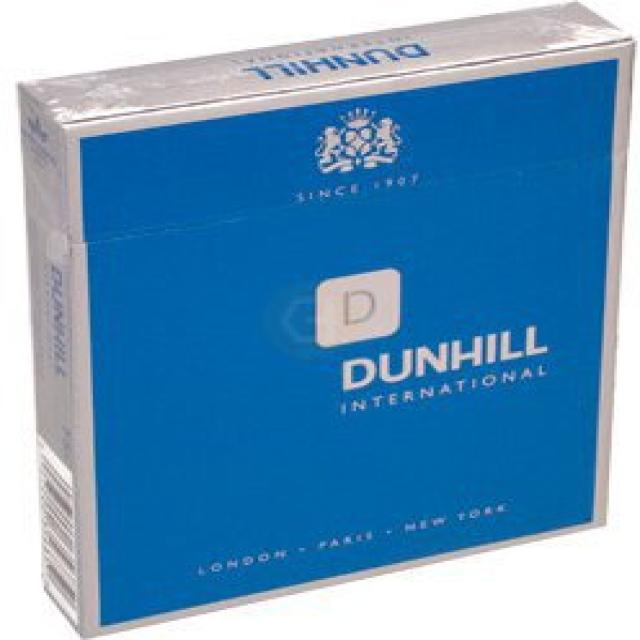dunhill: (14, 0, 622, 640)
